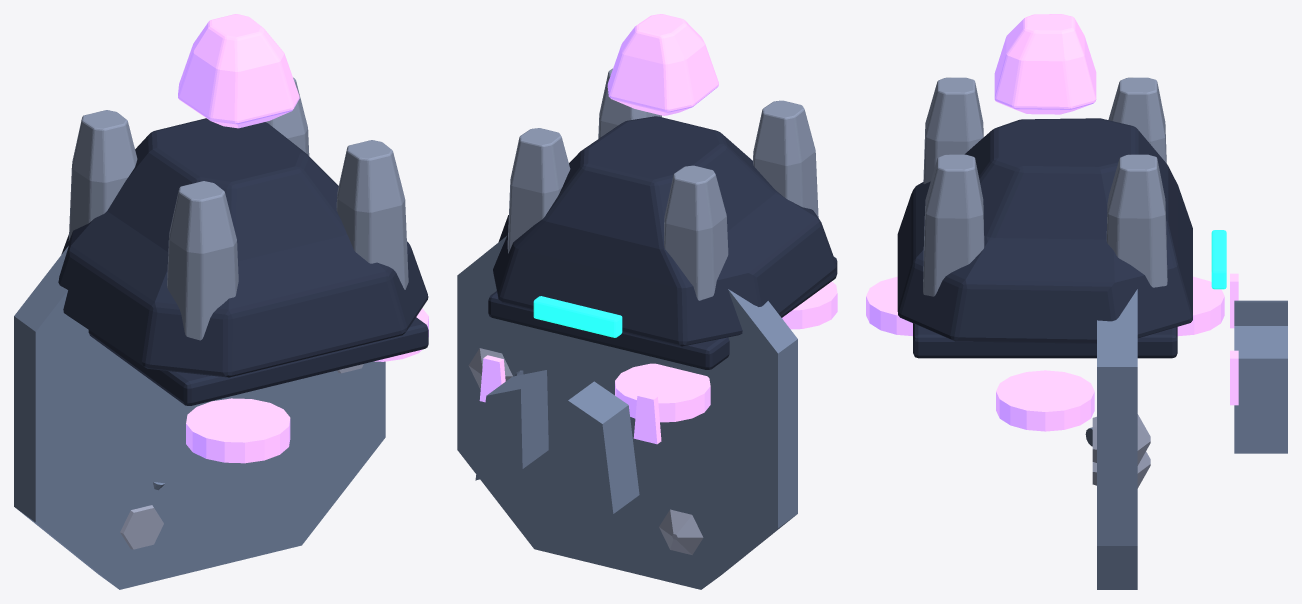
Rendered from lumen_armory.glb.
3 views of the same model, side by side, from view 1: azimuth 30°, elevation 25°; view 2: azimuth 150°, elevation 25°; view 3: azimuth 270°, elevation 25° (orthographic). The views are drawn at different scales.
Visible parts, largest first — view 1: Geometric levitation plinth, Ammunition vault · stepped polygon magazine, Automated ammunition elevator, Vacuum-sealed ordnance magazine 02, Vacuum-sealed ordnance magazine 03, Floating central armor slab, Flux suspension pad.002, Vacuum-sealed ordnance magazine 01, Faceted gravitic foot.002, Vacuum-sealed ordnance magazine 00; view 2: Geometric levitation plinth, Ammunition vault · stepped polygon magazine, Automated ammunition elevator, Magazine blast cheek, Vacuum-sealed ordnance magazine 01, Magazine blast cheek.001, Vacuum-sealed ordnance magazine 02, Vacuum-sealed ordnance magazine 00, Floating central armor slab, Flux suspension pad.001, TeamColor, Flux suspension pad.002 (+5 smaller); view 3: Ammunition vault · stepped polygon magazine, Geometric levitation plinth, Automated ammunition elevator, Magazine blast cheek.001, Vacuum-sealed ordnance magazine 03, Vacuum-sealed ordnance magazine 00, Flux suspension pad, Floating central armor slab, Vacuum-sealed ordnance magazine 02, Vacuum-sealed ordnance magazine 01, Flux suspension pad.002, Flux suspension pad.001 (+3 smaller).
Boxes of the visible parts, x1,y1,x2,y2 form: Geometric levitation plinth: (14, 246, 385, 589); Ammunition vault · stepped polygon magazine: (58, 118, 428, 377); Automated ammunition elevator: (178, 14, 299, 128); Vacuum-sealed ordnance magazine 02: (167, 181, 238, 340); Vacuum-sealed ordnance magazine 03: (336, 140, 408, 289); Floating central armor slab: (88, 317, 428, 405); Flux suspension pad.002: (186, 398, 290, 463); Vacuum-sealed ordnance magazine 01: (68, 110, 137, 240); Faceted gravitic foot.002: (120, 505, 163, 549); Vacuum-sealed ordnance magazine 00: (266, 77, 309, 155); Geometric levitation plinth: (457, 236, 797, 589); Ammunition vault · stepped polygon magazine: (493, 116, 836, 346); Automated ammunition elevator: (607, 14, 718, 115); Magazine blast cheek: (566, 381, 639, 513); Vacuum-sealed ordnance magazine 01: (664, 165, 728, 300); Magazine blast cheek.001: (475, 370, 548, 480); Vacuum-sealed ordnance magazine 02: (753, 100, 818, 217); Vacuum-sealed ordnance magazine 00: (507, 128, 570, 253); Floating central armor slab: (488, 257, 837, 369); Flux suspension pad.001: (615, 363, 710, 422); TeamColor: (533, 296, 622, 337); Flux suspension pad.002: (782, 281, 837, 329); Ammunition vault · stepped polygon magazine: (897, 118, 1192, 343); Geometric levitation plinth: (1097, 289, 1137, 589); Automated ammunition elevator: (994, 14, 1096, 114); Magazine blast cheek.001: (1234, 326, 1287, 453); Vacuum-sealed ordnance magazine 03: (923, 154, 984, 296); Vacuum-sealed ordnance magazine 00: (1106, 154, 1167, 287); Flux suspension pad: (996, 370, 1094, 431); Floating central armor slab: (913, 323, 1177, 358); Vacuum-sealed ordnance magazine 02: (923, 77, 983, 183); Vacuum-sealed ordnance magazine 01: (1108, 77, 1166, 162); Flux suspension pad.002: (866, 276, 912, 336); Flux suspension pad.001: (1177, 276, 1224, 336).
Size of the model in its own units: 1.81 by 2.7 by 1.97.
